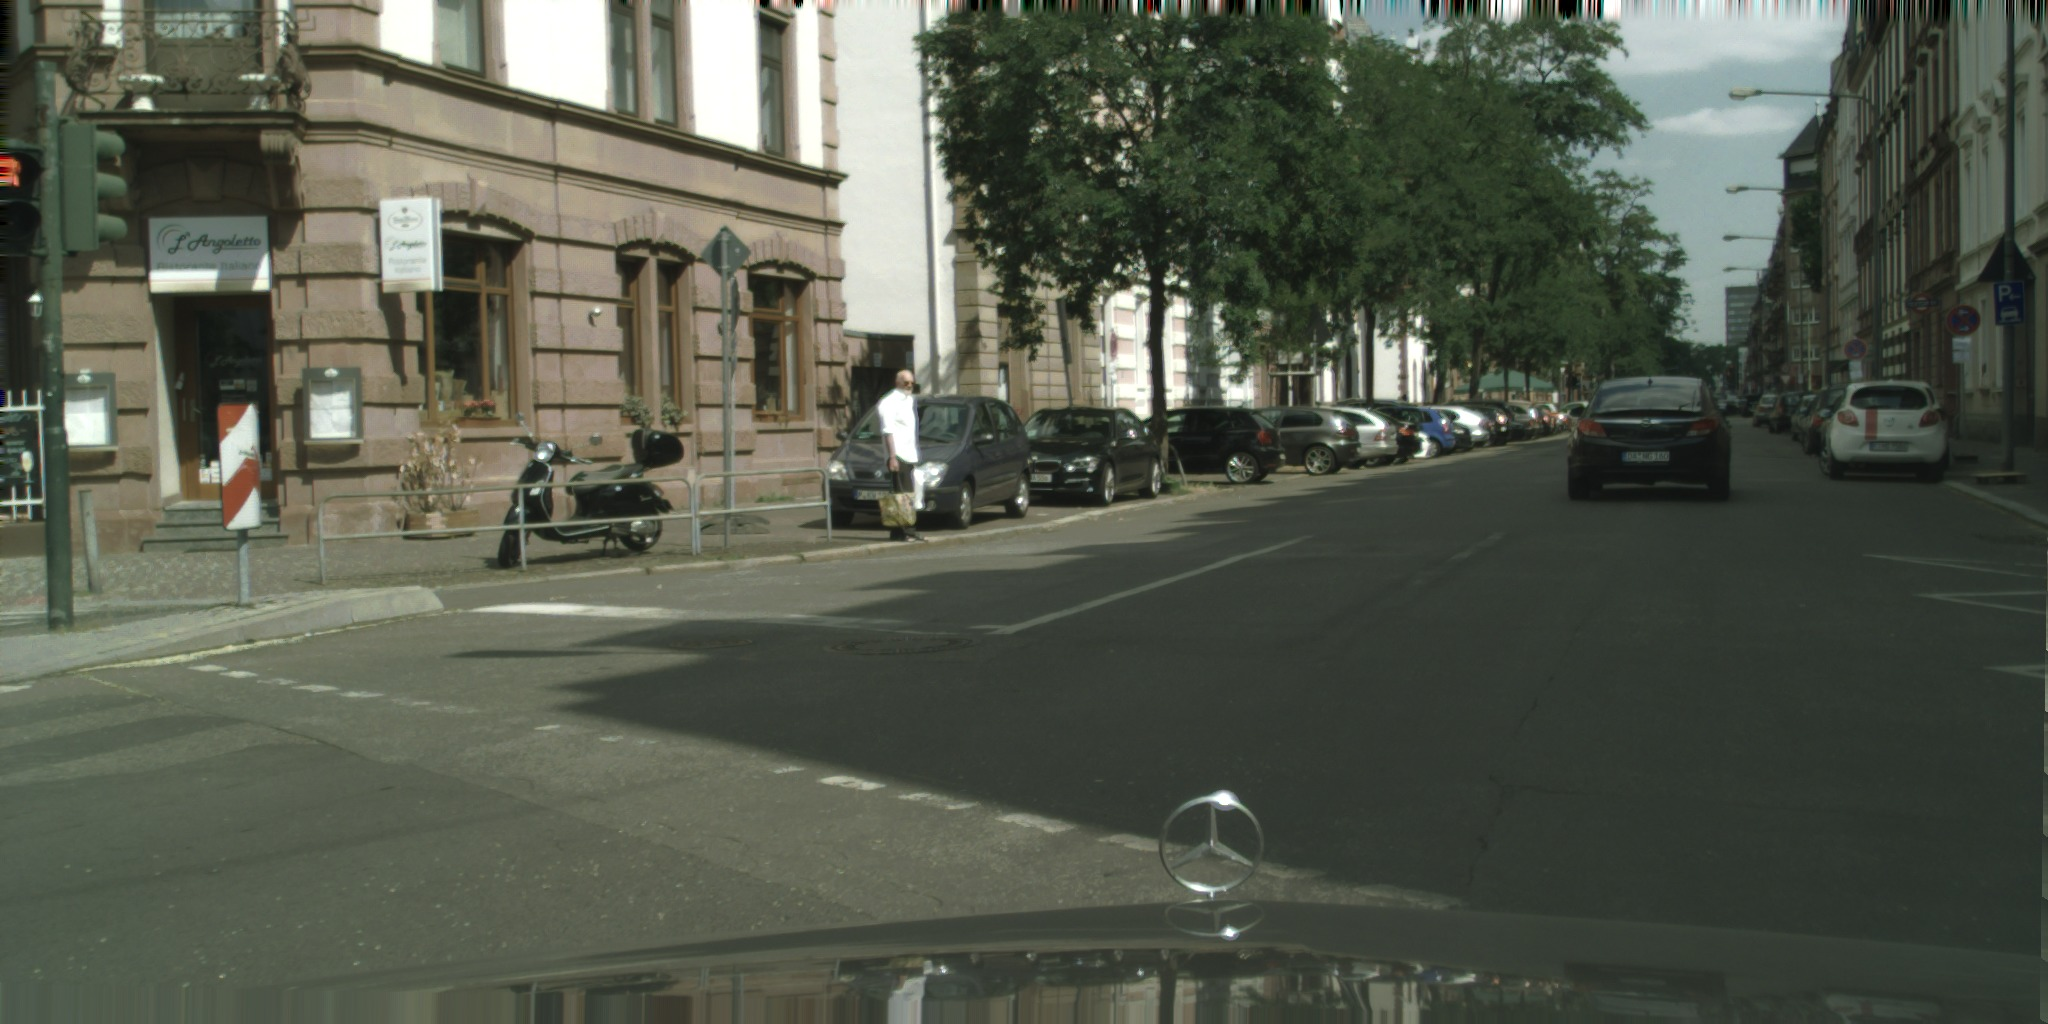car: (819, 393, 1035, 528), (1567, 377, 1731, 500), (1011, 406, 1165, 507), (1818, 379, 1948, 480), (1818, 379, 1946, 480), (1124, 406, 1285, 485), (1229, 406, 1362, 476), (1324, 399, 1473, 454), (1293, 406, 1398, 470), (1361, 405, 1455, 458), (1797, 385, 1866, 454), (1341, 409, 1423, 466), (1405, 405, 1490, 452), (1436, 399, 1515, 447), (1449, 404, 1507, 447), (1487, 402, 1543, 440), (1374, 429, 1431, 465), (1768, 391, 1811, 434), (1790, 393, 1826, 442), (1514, 403, 1572, 430), (1548, 401, 1596, 430), (1753, 394, 1789, 428), (1496, 414, 1533, 441), (1522, 403, 1558, 422), (1742, 393, 1765, 418)
motorcycle: (497, 411, 685, 569)
person: (876, 369, 928, 543)
